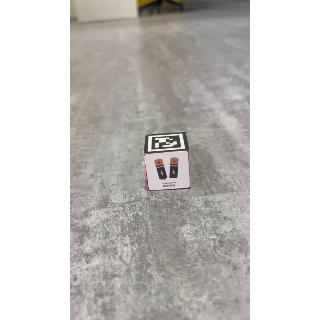Used_Battery: (145, 154, 198, 193)
